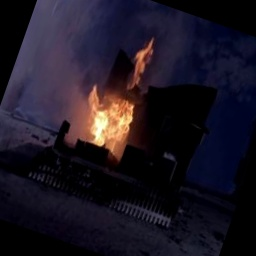fire: (69, 50, 162, 164)
